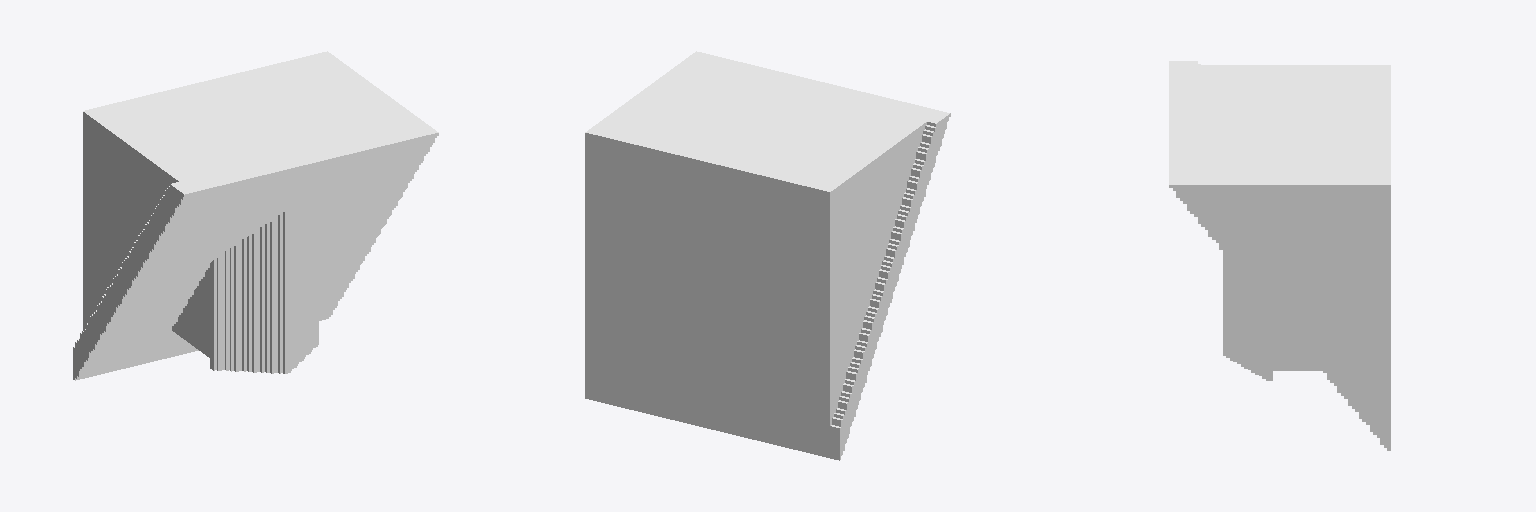
Rendered from Building2Var1-Roof-0.obj.
3 renders of one model, left to right at view 1: azimuth 30°, elevation 25°; view 2: azimuth 150°, elevation 25°; view 3: azimuth 270°, elevation 25°, orthographic.
Parts seen in each view (by area): view 1: object 1; view 2: object 1; view 3: object 1.
Boxes of the visible parts, x1=… form: object 1: x1=73, y1=51, x2=438, y2=380; object 1: x1=585, y1=51, x2=950, y2=460; object 1: x1=1169, y1=61, x2=1390, y2=450.
Size of the model in its own units: 82 by 82 by 62.